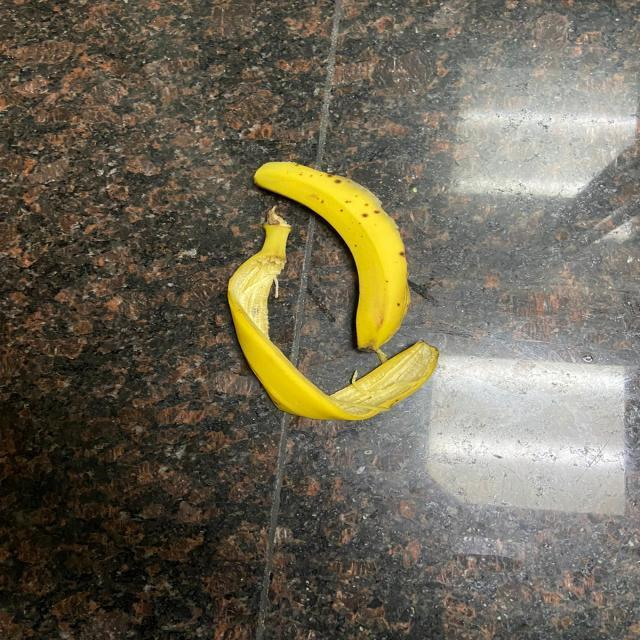banana-peel: (226, 203, 439, 421), (251, 158, 410, 360)
